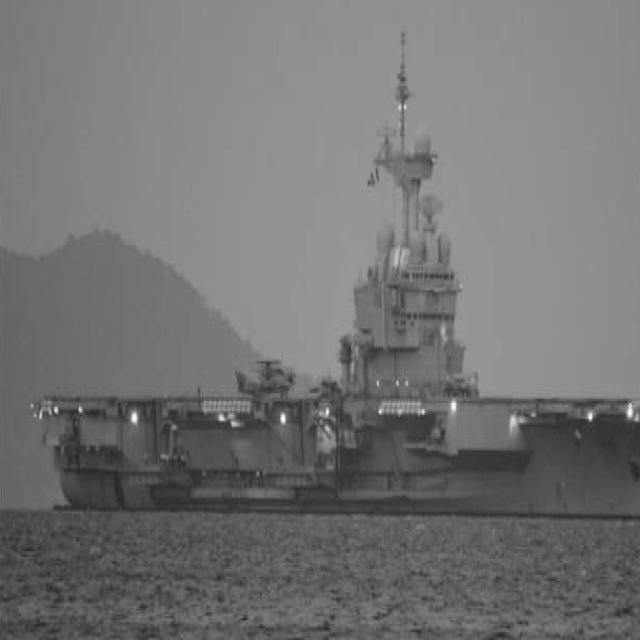Portanaves: (27, 11, 640, 526)
